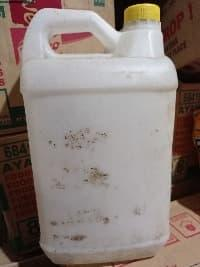Plastik: (21, 4, 177, 264)
